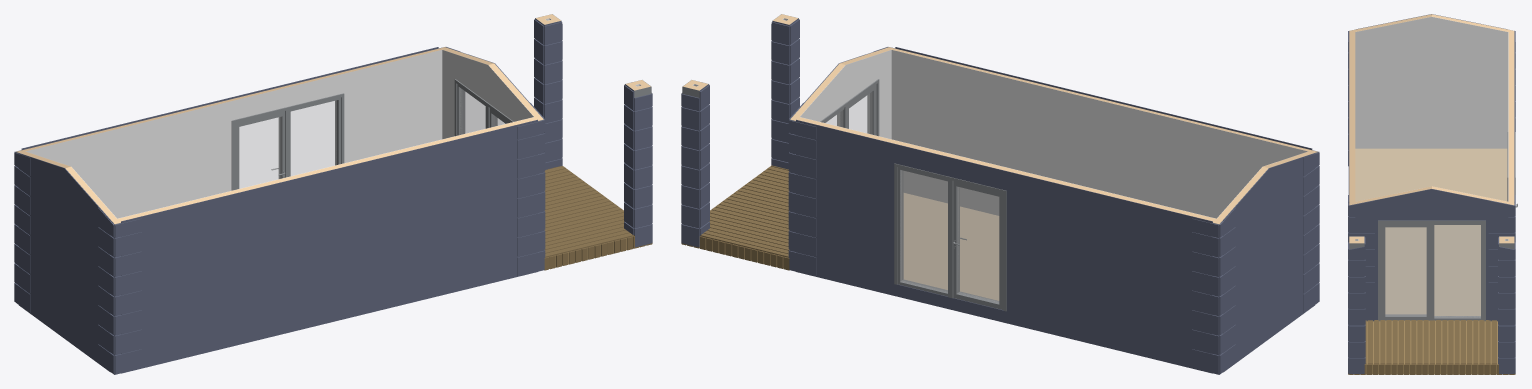
The model's file is egidijus55.m@gmail.fbx.
The picture shows the model from 3 angles, left to right: view 1: azimuth 30°, elevation 25°; view 2: azimuth 150°, elevation 25°; view 3: azimuth 270°, elevation 25°; orthographic projection. The views are drawn at different scales.
Parts seen in each view (by area): view 1: IfcWall/Part:2345365, IfcBuildingElementProxy/Kampai Kvadratiniai - line based:Mu. (×6), IfcPlate/System Panel:Sandwich užbaigimas Multisplit:3165578, IfcPlate/System Panel:Sandwich užbaigimas Multisplit:3165572, IfcPlate/System Panel:Sandwich užbaigimas Multisplit:3165574, IfcPlate/System Panel:Sandwich užbaigimas Multisplit:3165580, IfcPlate/System Panel:Sandwich užbaigimas Multisplit:3165576, IfcPlate/System Panel:Sandwich užbaigimas Multisplit:3165569, IfcPlate/System Panel:Sandwich užbaigimas Multisplit:3165424, IfcPlate/System Panel:Sandwich užbaigimas Multisplit:3165582, IfcBuildingElementProxy/Kampai Kvadratiniai - line based:Mul, IfcDoor/Durys išorinės:1000x2100x120 (dešininės):2523263 (+10 smaller); view 2: IfcWall/Part:2345356, IfcBuildingElementProxy/Kampai Kvadratiniai - line based:Mu. (×7), IfcPlate/System Panel:Sandwich užbaigimas Multisplit:3165201, IfcPlate/System Panel:Sandwich užbaigimas Multisplit:3165199, IfcPlate/System Panel:Sandwich užbaigimas Multisplit:3165207, IfcSlab/Part:3131526, IfcWindow/Langai (Akrusta):1000x2100x120:3160357, IfcDoor/Durys išorinės:1000x2100x120 (dešininės):2523263, IfcPlate/System Panel:Sandwich užbaigimas Multisplit:3165196, IfcPlate/System Panel:Sandwich užbaigimas Multisplit:3165424, IfcPlate/System Panel:Sandwich užbaigimas Multisplit:3165209, IfcPlate/System Panel:Sandwich užbaigimas Multisplit:3165203 (+10 smaller); view 3: IfcWall/Part:2345362, IfcSlab/Part:3131526, IfcBuildingElementProxy/Kampai Kvadratiniai - line based:Mu. (×7), IfcWindow/Langai (Akrusta):1000x2100x120 (dešininis):2520826, IfcWindow/Langai (Akrusta):1000x2100x120:3160029, IfcPlate/System Panel:Sandwich užbaigimas Multisplit:3165769, IfcPlate/System Panel:Sandwich užbaigimas Multisplit:3165766, IfcWall/Part:2345367, IfcWall/Part:2345358, IfcPlate/System Panel:Sandwich užbaigimas Multisplit:3165771, IfcWall/Part:2345364, IfcWall/Part:2345361 (+23 smaller).
Part boxes in pixels (<box>): IfcWall/Part:2345365: <box>25,50,442,218</box>; IfcBuildingElementProxy/Kampai Kvadratiniai - line based:Mu. (×6): <box>14,18,652,312</box>; IfcPlate/System Panel:Sandwich užbaigimas Multisplit:3165578: <box>234,179,295,345</box>; IfcPlate/System Panel:Sandwich užbaigimas Multisplit:3165572: <box>416,134,477,301</box>; IfcPlate/System Panel:Sandwich užbaigimas Multisplit:3165574: <box>356,149,416,316</box>; IfcPlate/System Panel:Sandwich užbaigimas Multisplit:3165580: <box>174,194,234,360</box>; IfcPlate/System Panel:Sandwich užbaigimas Multisplit:3165576: <box>295,164,355,330</box>; IfcPlate/System Panel:Sandwich užbaigimas Multisplit:3165569: <box>477,119,537,286</box>; IfcPlate/System Panel:Sandwich užbaigimas Multisplit:3165424: <box>40,160,75,346</box>; IfcPlate/System Panel:Sandwich užbaigimas Multisplit:3165582: <box>121,208,173,373</box>; IfcBuildingElementProxy/Kampai Kvadratiniai - line based:Mul: <box>114,218,141,374</box>; IfcDoor/Durys išorinės:1000x2100x120 (dešininės):2523263: <box>231,106,290,190</box>; IfcWall/Part:2345356: <box>891,50,1307,218</box>; IfcBuildingElementProxy/Kampai Kvadratiniai - line based:Mu. (×7): <box>681,18,1235,374</box>; IfcPlate/System Panel:Sandwich užbaigimas Multisplit:3165201: <box>1030,177,1091,343</box>; IfcPlate/System Panel:Sandwich užbaigimas Multisplit:3165199: <box>1091,192,1151,358</box>; IfcPlate/System Panel:Sandwich užbaigimas Multisplit:3165207: <box>848,132,909,299</box>; IfcSlab/Part:3131526: <box>903,193,999,300</box>; IfcWindow/Langai (Akrusta):1000x2100x120:3160357: <box>894,163,953,298</box>; IfcDoor/Durys išorinės:1000x2100x120 (dešininės):2523263: <box>948,176,1006,311</box>; IfcPlate/System Panel:Sandwich užbaigimas Multisplit:3165196: <box>1152,206,1212,373</box>; IfcPlate/System Panel:Sandwich užbaigimas Multisplit:3165424: <box>1245,164,1280,355</box>; IfcPlate/System Panel:Sandwich užbaigimas Multisplit:3165209: <box>796,119,848,284</box>; IfcPlate/System Panel:Sandwich užbaigimas Multisplit:3165203: <box>970,162,1030,328</box>; IfcWall/Part:2345362: <box>1355,16,1508,148</box>; IfcSlab/Part:3131526: <box>1355,148,1507,315</box>; IfcBuildingElementProxy/Kampai Kvadratiniai - line based:Mu. (×7): <box>1348,201,1515,374</box>; IfcWindow/Langai (Akrusta):1000x2100x120 (dešininis):2520826: <box>1378,220,1434,321</box>; IfcWindow/Langai (Akrusta):1000x2100x120:3160029: <box>1429,220,1485,321</box>; IfcPlate/System Panel:Sandwich užbaigimas Multisplit:3165769: <box>1391,189,1449,220</box>; IfcPlate/System Panel:Sandwich užbaigimas Multisplit:3165766: <box>1450,192,1508,319</box>; IfcWall/Part:2345367: <box>1508,30,1514,205</box>; IfcWall/Part:2345358: <box>1349,32,1355,205</box>; IfcPlate/System Panel:Sandwich užbaigimas Multisplit:3165771: <box>1355,197,1391,319</box>; IfcWall/Part:2345364: <box>1349,14,1508,33</box>; IfcWall/Part:2345361: <box>1355,186,1508,203</box>.
Size of the model in its own units: 1004 by 303 by 328.
